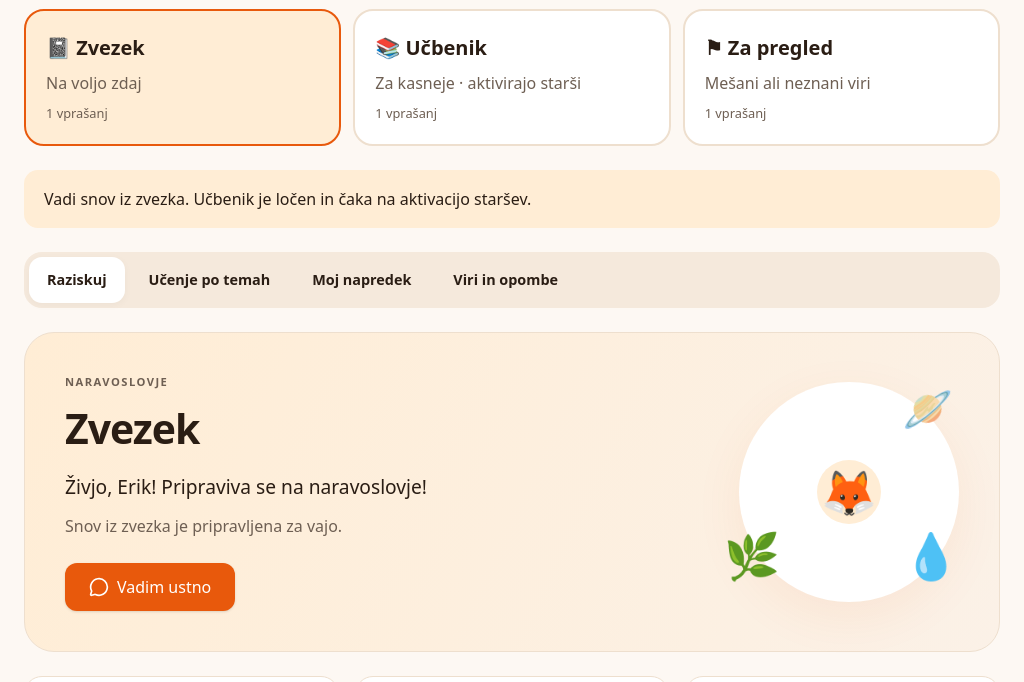
Test: Source groups › defaults to notebook, keeps textbook viewable but inactive and excludes old progress
This screenshot has width=1024, height=682.
Expected: the heading "Zvezek" is shown, [65, 400, 199, 456]
Expected: the button "Vadim ustno" is enabled, [65, 563, 235, 611]
Click the button "📚 Učbenik Za kasneje · aktivirajo starši 1 vprašanj".
click(512, 78)  # box [353, 9, 671, 146]
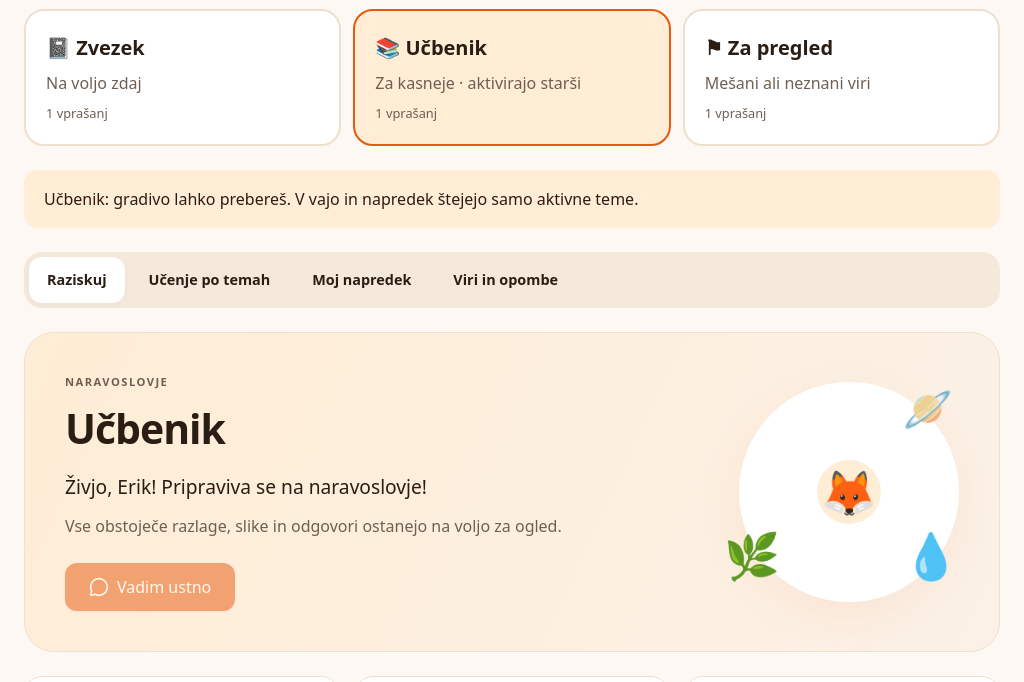
Result: the button "Vadim ustno" is disabled at [65, 563, 235, 611]
Click the button "Moj napredek".
click(362, 280)  # box [294, 257, 429, 303]
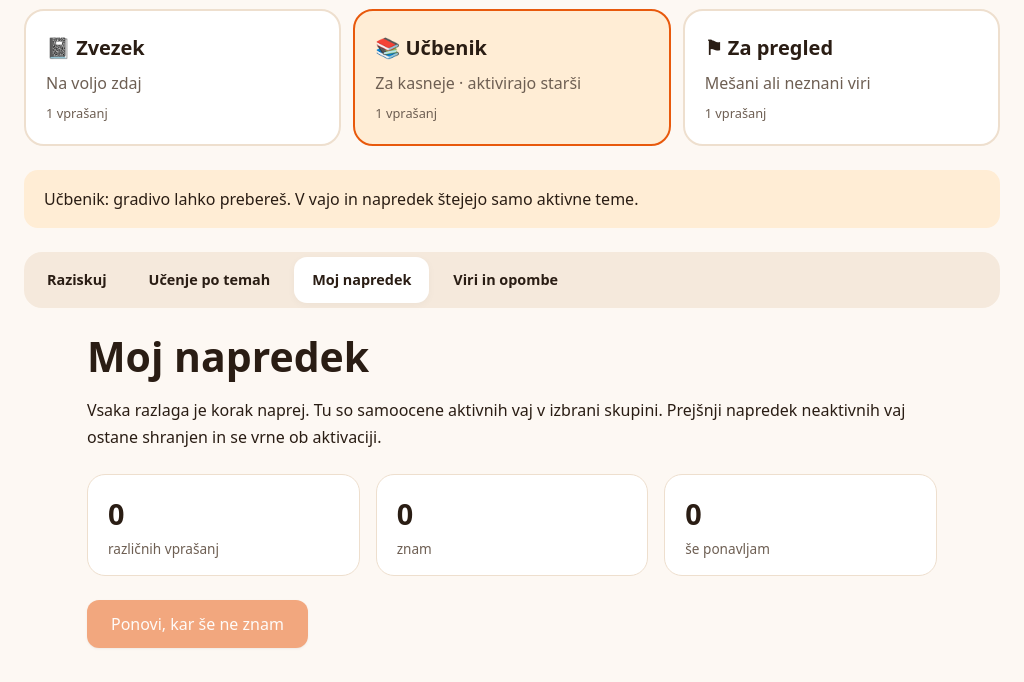
Expected: the heading "Shared topic" is not shown
Click the button "Učenje po temah".
click(209, 280)  # box [130, 257, 288, 303]
(page scrolled)
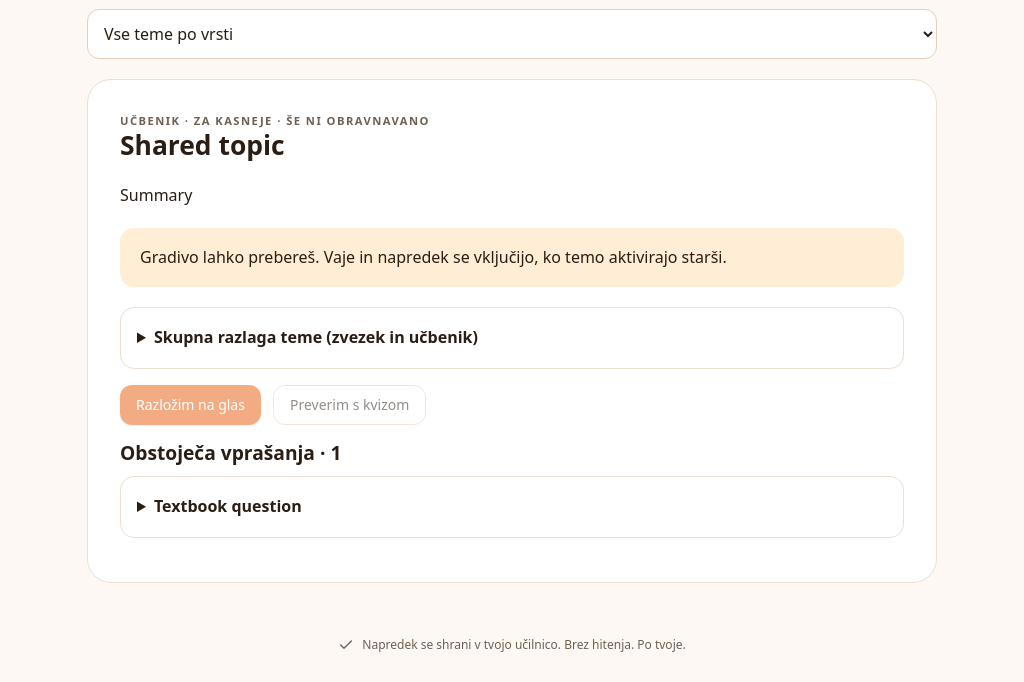
Click the heading "Textbook question".
click(228, 506)  # box [154, 495, 302, 517]
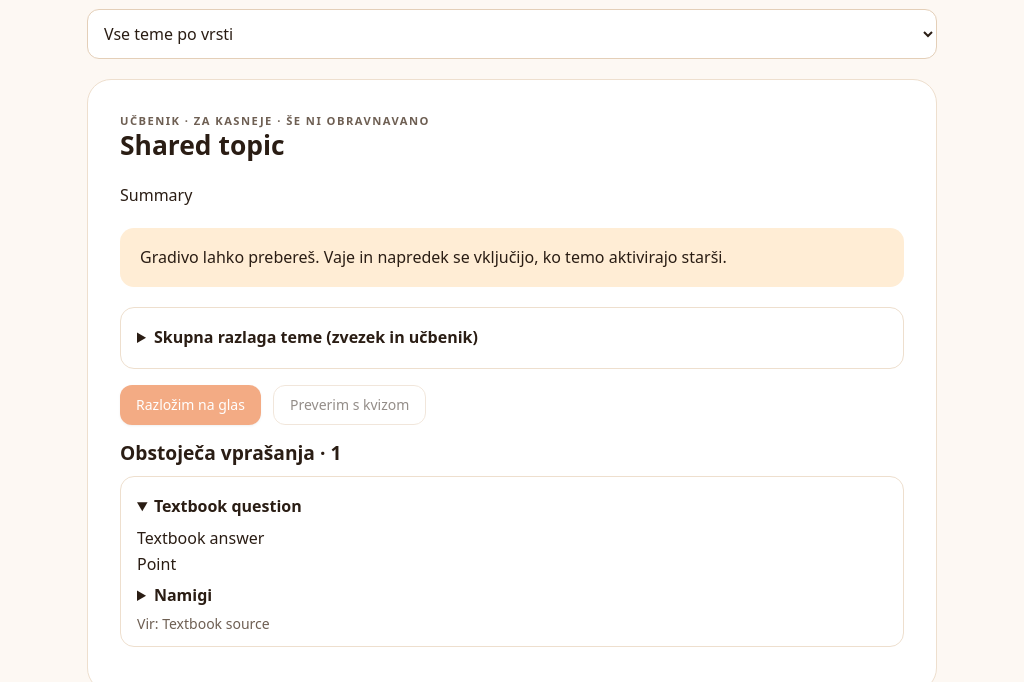
Result: the text "Textbook answer" is shown at [137, 527, 264, 549]
